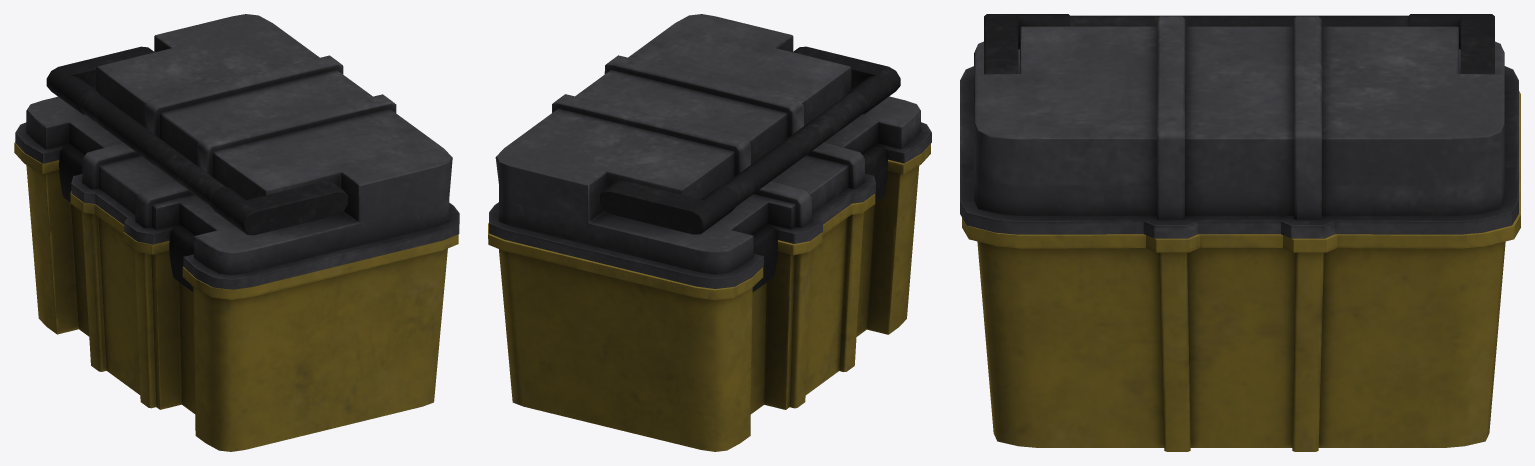
File: Plastic Container 2.fbx
3 renders of one model, left to right at view 1: azimuth 30°, elevation 25°; view 2: azimuth 150°, elevation 25°; view 3: azimuth 270°, elevation 25°, orthographic. The views are drawn at different scales.
Visible parts, largest first — view 1: plastic_container_2_Top_Base, plastic_container_2_Base, plastic_container_2_Top_Handle, plastic_container_2_Top; view 2: plastic_container_2_Top_Base, plastic_container_2_Base, plastic_container_2_Top_Handle, plastic_container_2_Top; view 3: plastic_container_2_Top_Base, plastic_container_2_Base, plastic_container_2_Top_Handle.
Boxes of the visible parts, box(x1,y1,x2,y2) form: plastic_container_2_Top_Base: box(15, 14, 459, 289); plastic_container_2_Base: box(14, 142, 458, 451); plastic_container_2_Top_Handle: box(46, 46, 348, 235); plastic_container_2_Top: box(59, 144, 195, 291); plastic_container_2_Top_Base: box(489, 14, 931, 288); plastic_container_2_Base: box(488, 144, 930, 451); plastic_container_2_Top_Handle: box(599, 46, 900, 234); plastic_container_2_Top: box(752, 144, 887, 292); plastic_container_2_Top_Base: box(960, 16, 1518, 238); plastic_container_2_Base: box(962, 91, 1520, 451); plastic_container_2_Top_Handle: box(984, 14, 1494, 74).
Size of the model in its own units: 42 by 37.31 by 58.45.
1 material, 1 textured.
